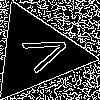V: (12, 28, 73, 78)
